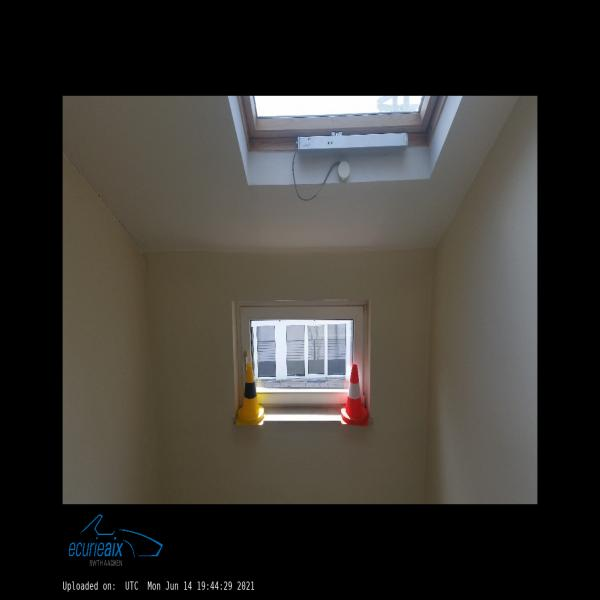orange_cone: (341, 365, 369, 426)
yellow_cone: (236, 364, 264, 426)
